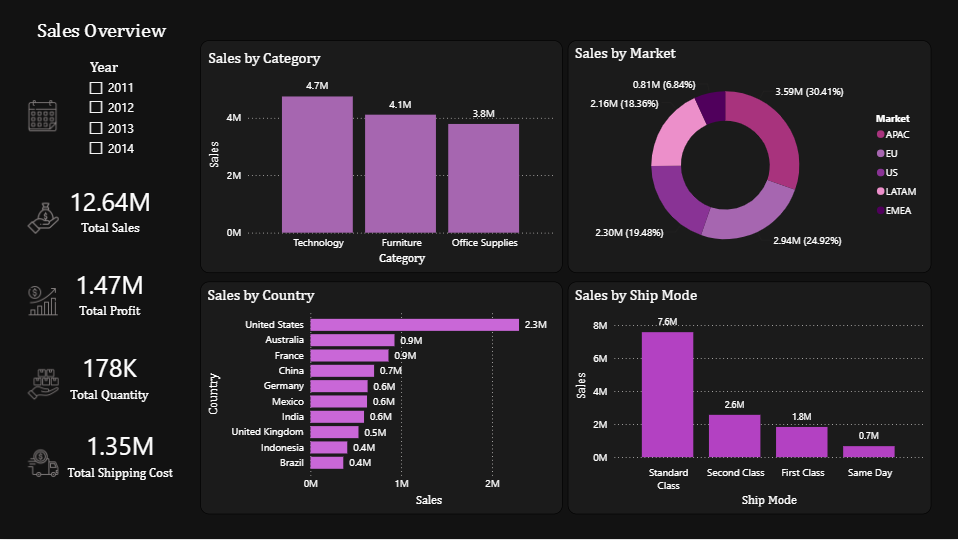

What the dashboard file says about the page in this screenshot:
{"tool":"powerbi","page":{"name":"Global Superstore Sales Overview","canvas":[1280,720],"ordinal":0},"visuals":[{"type":"card","fields":{"Values":["Sum(Orders.Sales)"]},"box":[73.3,228.3,150,103.3],"z":0},{"type":"card","fields":{"Values":["Sum(Orders.Profit)"]},"box":[73.3,340,148.3,101.7],"z":1000},{"type":"card","fields":{"Values":["Sum(Orders.Quantity)"]},"box":[73.3,451.7,148.3,101.7],"z":2000},{"type":"card","fields":{"Values":["Sum(Orders.Shipping Cost)"]},"box":[86.7,555,150,101.7],"z":3000},{"type":"columnChart","title":"Sales by Category","fields":{"Category":["Orders.Category"],"Y":["Sum(Orders.Sales)"]},"box":[268.3,55,483.3,310],"z":4000},{"type":"donutChart","title":"Sales by Market","fields":{"Category":["Orders.Market"],"Y":["Sum(Orders.Sales)"]},"box":[758.3,55,485,310],"z":5000},{"type":"barChart","title":"Sales by Country","fields":{"Category":["Orders.Country"],"Y":["Sum(Orders.Sales)"]},"box":[268.3,376.7,483.3,310],"z":6000},{"type":"clusteredColumnChart","title":"Sales by Ship Mode","fields":{"Category":["Orders.Ship Mode"],"Y":["Sum(Orders.Sales)"]},"box":[758.3,376.7,485,310],"z":7000},{"type":"image","box":[31.7,266.7,55,51.7],"z":8000},{"type":"image","box":[31.7,376.7,55,51.7],"z":9000},{"type":"image","box":[31.7,488.3,55,51.7],"z":10000},{"type":"image","box":[31.7,593.3,55,51.7],"z":11000},{"type":"slicer","fields":{"Values":["Orders.Year"]},"box":[108.3,73.3,108.3,155],"z":12000},{"type":"image","box":[31.7,130,53.3,51.7],"z":13000},{"type":"textbox","box":[45,20,191.7,51.7],"z":14000}]}

Visuals, with their boxes in screenshot pixels (x1, y1, x2, y2), scaled from the page's 1280x720 canvas onto the 958x540 screenshot:
card - Sum(Orders.Sales): 55/171/167/249
card - Sum(Orders.Profit): 55/255/166/331
card - Sum(Orders.Quantity): 55/339/166/415
card - Sum(Orders.Shipping Cost): 65/416/177/493
"Sales by Category" columnChart: 201/41/563/274
"Sales by Market" donutChart: 568/41/931/274
"Sales by Country" barChart: 201/283/563/515
"Sales by Ship Mode" clusteredColumnChart: 568/283/931/515
image: 24/200/65/239
image: 24/283/65/321
image: 24/366/65/405
image: 24/445/65/484
slicer - Orders.Year: 81/55/162/171
image: 24/98/64/136
textbox: 34/15/177/54
